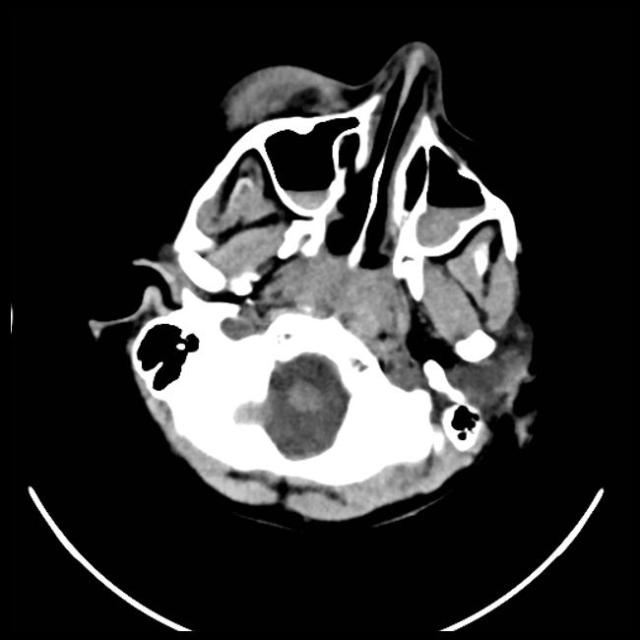lesion: (90, 38, 542, 529)
